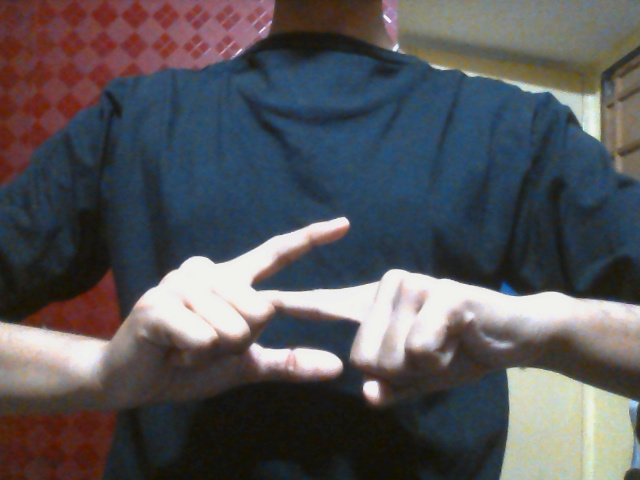E: (138, 216, 494, 423)
